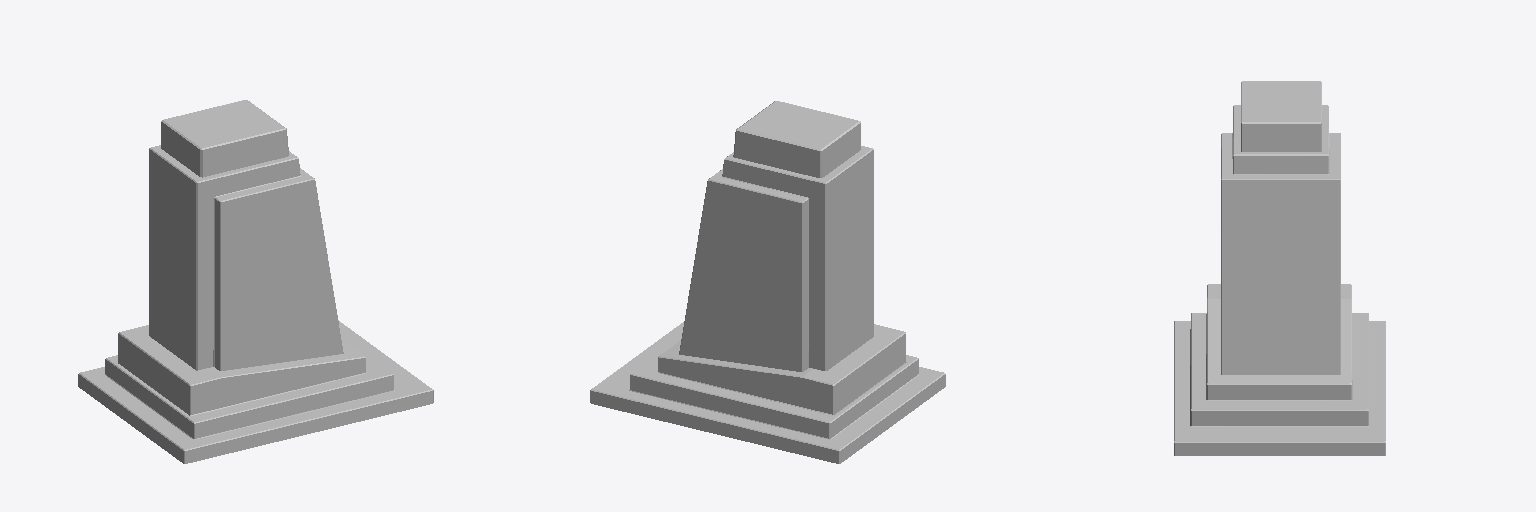
Rendered from monument.obj.
3 views of the same model, side by side, from view 1: azimuth 30°, elevation 25°; view 2: azimuth 150°, elevation 25°; view 3: azimuth 270°, elevation 25° (orthographic).
Visible parts, largest first — view 1: mesh_1; view 2: mesh_1; view 3: mesh_1.
Part boxes in pixels (left/top/right/bottom): mesh_1: left=78, top=100, right=433, bottom=463; mesh_1: left=590, top=101, right=945, bottom=463; mesh_1: left=1174, top=81, right=1385, bottom=455.
Bounding box in the file's own units: 10.9 × 11.61 × 8.04.